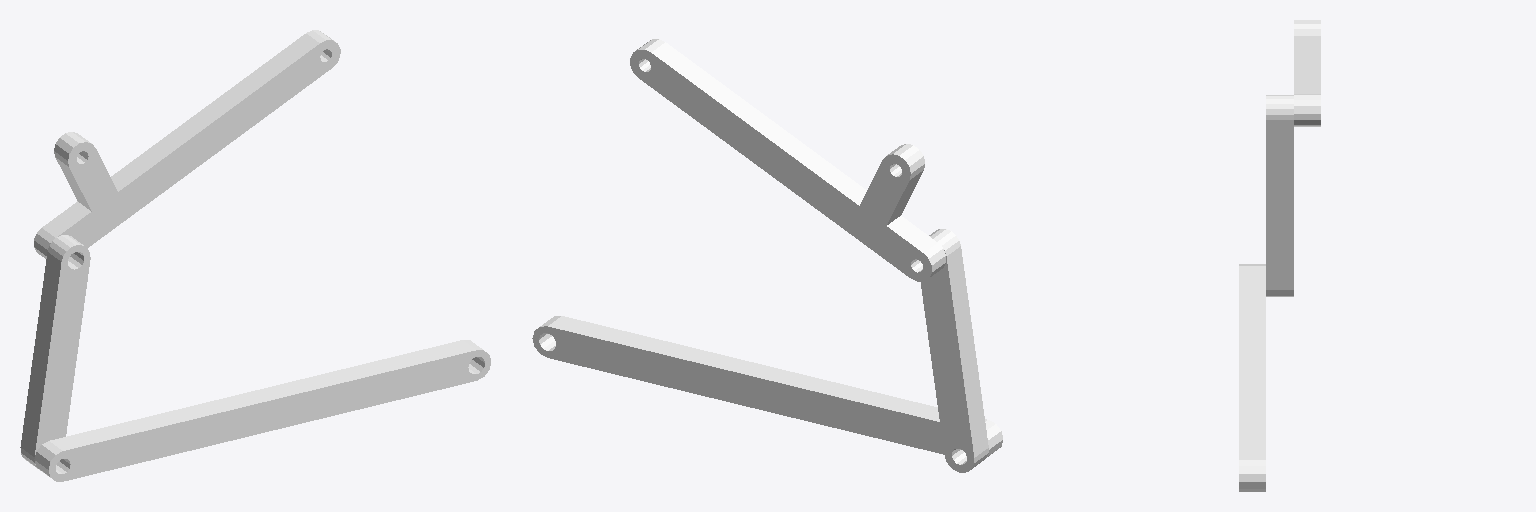
URDF robot description (hit_mechanism_theory):
<?xml version="1.0" encoding="utf-8"?>
<!-- This URDF was automatically created by SolidWorks to URDF Exporter! Originally created by [author] ([email redacted]) 
     Commit Version: 1.6.0-4-g7f85cfe  Build Version: 1.6.7995.38578
     For more information, please see http://wiki.ros.org/sw_urdf_exporter -->
<robot
  name="hit_mechanism_theory">
  <link
    name="base_link">
    <inertial>
      <origin
        xyz="-0.0420417072243827 -0.0743722309975965 -0.0245209736544894"
        rpy="0 0 0" />
      <mass
        value="0.0209510308536538" />
      <inertia
        ixx="4.31058987194356E-07"
        ixy="9.00920390220769E-22"
        ixz="1.6265494408689E-22"
        iyy="5.33666050979322E-05"
        iyz="3.4274231660628E-24"
        izz="5.34484802375657E-05" />
    </inertial>
    <visual>
      <origin
        xyz="0 0 0"
        rpy="0 0 0" />
      <geometry>
        <mesh
          filename="package://hit_mechanism_theory/meshes/base_link.STL" />
      </geometry>
      <material
        name="">
        <color
          rgba="1 1 1 1" />
      </material>
    </visual>
    <collision>
      <origin
        xyz="0 0 0"
        rpy="0 0 0" />
      <geometry>
        <mesh
          filename="package://hit_mechanism_theory/meshes/base_link.STL" />
      </geometry>
    </collision>
  </link>
  <link
    name="linkAB">
    <inertial>
      <origin
        xyz="0.0371817038425088 -6.08402217494586E-14 -0.005"
        rpy="0 0 0" />
      <mass
        value="0.00950214387592874" />
      <inertia
        ixx="1.97084106558777E-07"
        ixy="-2.59238403974119E-21"
        ixz="-7.40987074598825E-23"
        iyy="5.19422383682696E-06"
        iyz="-6.26387574287629E-24"
        izz="5.23293887878693E-06" />
    </inertial>
    <visual>
      <origin
        xyz="0 0 0"
        rpy="0 0 0" />
      <geometry>
        <mesh
          filename="package://hit_mechanism_theory/meshes/linkAB.STL" />
      </geometry>
      <material
        name="">
        <color
          rgba="1 1 1 1" />
      </material>
    </visual>
    <collision>
      <origin
        xyz="0 0 0"
        rpy="0 0 0" />
      <geometry>
        <mesh
          filename="package://hit_mechanism_theory/meshes/linkAB.STL" />
      </geometry>
    </collision>
  </link>
  <joint
    name="jointA"
    type="continuous">
    <origin
      xyz="-0.126714490675986 0.0295209736544894 -0.0743722309975965"
      rpy="1.5707963267949 -1.42221124002695 0" />
    <parent
      link="base_link" />
    <child
      link="linkAB" />
    <axis
      xyz="0 0 1" />
  </joint>
  <link
    name="linkBC">
    <inertial>
      <origin
        xyz="0.0544311472852489 0.00364847640014895 -0.00500000000448934"
        rpy="0 0 0" />
      <mass
        value="0.0180946249077626" />
      <inertia
        ixx="1.35905209390565E-06"
        ixy="1.7357626470457E-06"
        ixz="-1.42991788926848E-22"
        iyy="2.39956392272529E-05"
        iyz="4.56105317644272E-23"
        izz="2.50531142393625E-05" />
    </inertial>
    <visual>
      <origin
        xyz="0 0 0"
        rpy="0 0 0" />
      <geometry>
        <mesh
          filename="package://hit_mechanism_theory/meshes/linkBC.STL" />
      </geometry>
      <material
        name="">
        <color
          rgba="1 1 1 1" />
      </material>
    </visual>
    <collision>
      <origin
        xyz="0 0 0"
        rpy="0 0 0" />
      <geometry>
        <mesh
          filename="package://hit_mechanism_theory/meshes/linkBC.STL" />
      </geometry>
    </collision>
  </link>
  <joint
    name="jointB"
    type="continuous">
    <origin
      xyz="0.074166528159762 0.000154719377460921 -0.00999999999551065"
      rpy="0 0 -0.982349251785507" />
    <parent
      link="linkAB" />
    <child
      link="linkBC" />
    <axis
      xyz="0 0 1" />
  </joint>
  <link
    name="linkCD">
    <inertial>
      <origin
        xyz="-0.0678253502735387 -3.00037772404949E-14 -0.005"
        rpy="0 0 0" />
      <mass
        value="0.0167330198618603" />
      <inertia
        ixx="3.44857715381249E-07"
        ixy="6.81596824743695E-21"
        ixz="-8.50419918939852E-24"
        iyy="2.73613018527324E-05"
        iyz="9.68938210760468E-23"
        izz="2.74272759037493E-05" />
    </inertial>
    <visual>
      <origin
        xyz="0 0 0"
        rpy="0 0 0" />
      <geometry>
        <mesh
          filename="package://hit_mechanism_theory/meshes/linkCD.STL" />
      </geometry>
      <material
        name="">
        <color
          rgba="1 1 1 1" />
      </material>
    </visual>
    <collision>
      <origin
        xyz="0 0 0"
        rpy="0 0 0" />
      <geometry>
        <mesh
          filename="package://hit_mechanism_theory/meshes/linkCD.STL" />
      </geometry>
    </collision>
  </link>
  <joint
    name="jointD"
    type="continuous">
    <origin
      xyz="0.0432855093240141 0.0295209736544894 -0.0743722309975965"
      rpy="1.5707963267949 1.18883685572557 0" />
    <parent
      link="base_link" />
    <child
      link="linkCD" />
    <axis
      xyz="0 0 1" />
  </joint>
</robot>

--- What the picture shows (computed from the rendered views, not written in the file) ---
The picture shows the robot from 3 angles, left to right: view 1: azimuth 30°, elevation 25°; view 2: azimuth 150°, elevation 25°; view 3: azimuth 270°, elevation 25°; orthographic projection.
Robot: hit_mechanism_theory — 4 links, 3 joints (3 continuous); root link base_link; default pose: every joint at zero.
Links seen in each view (by area): view 1: base_link, linkBC, linkAB; view 2: linkBC, base_link, linkAB; view 3: base_link, linkAB, linkBC.
Link boxes in pixels (<box>): base_link: <box>34,340,490,481</box>; linkBC: <box>34,30,340,258</box>; linkAB: <box>20,235,90,470</box>; linkBC: <box>630,39,945,281</box>; base_link: <box>532,316,1002,456</box>; linkAB: <box>921,229,988,472</box>; base_link: <box>1239,264,1265,491</box>; linkAB: <box>1266,95,1293,296</box>; linkBC: <box>1294,20,1320,126</box>.
Bounding box of the posed robot: 0.1821 × 0.03 × 0.1373 m (x, y, z).
Meshes: 4 distinct files referenced, 3 mesh visuals loaded (3 binary STL); not drawn: 1 (reference not matched to a file when rendering).